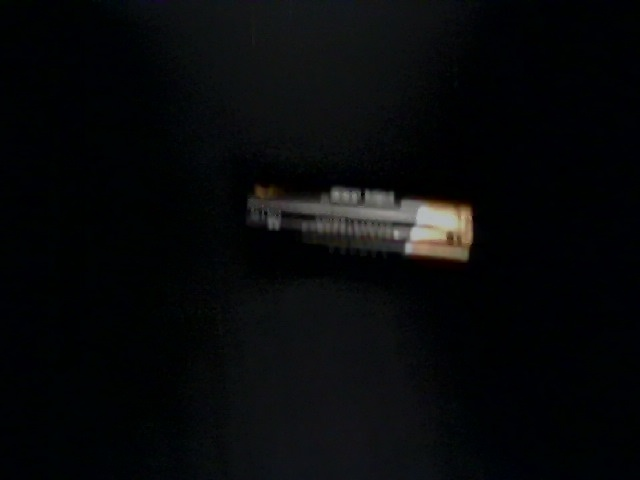YHLJ: (1, 196, 290, 380)
